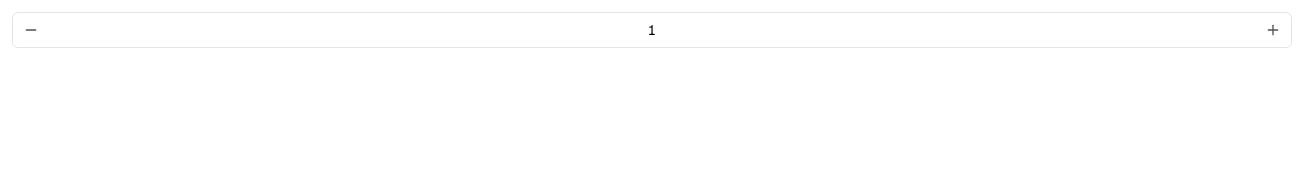
Test: NumberField › increments the value
Expected: the field holds "1", [49, 13, 1255, 47]
Click the button named "increase". click: click(1273, 30)
box: [1255, 12, 1291, 48]
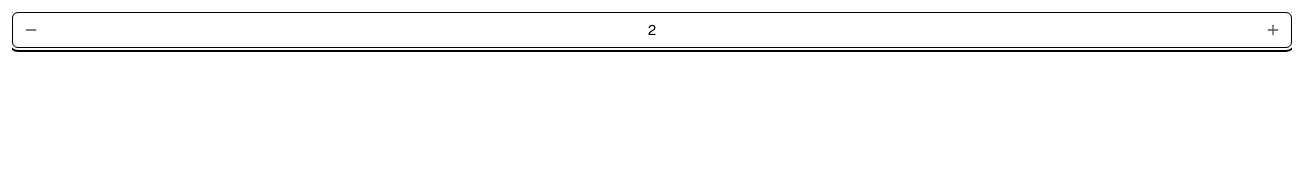
Now the field holds "2", box [49, 13, 1255, 47]
